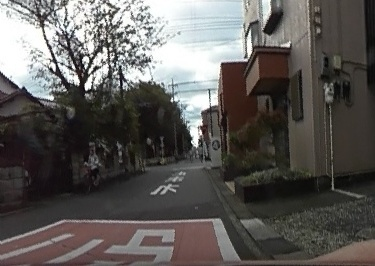person: (85, 146, 100, 188)
